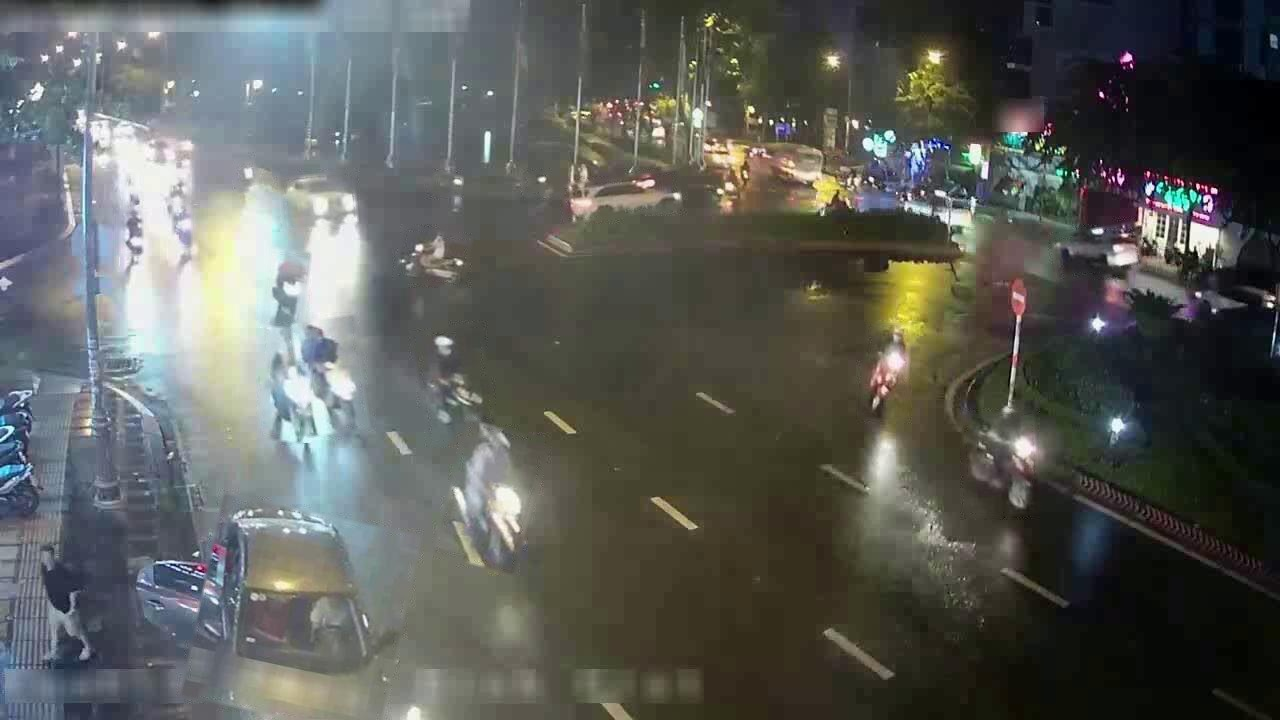Car: (194, 507, 373, 675), (135, 559, 205, 655), (568, 175, 681, 220), (1055, 227, 1139, 273), (284, 175, 357, 222)
Motorcycle: (0, 463, 40, 517)
Motorcyclist: (452, 421, 529, 569), (299, 324, 359, 434), (425, 334, 486, 430), (968, 429, 1038, 510), (267, 332, 318, 439), (399, 234, 468, 287), (868, 329, 908, 415), (271, 254, 308, 326), (170, 205, 196, 261), (124, 211, 146, 267), (431, 174, 463, 195), (522, 175, 550, 197), (234, 163, 255, 189), (124, 174, 139, 207), (166, 180, 187, 201)
Pedestrian: (40, 545, 95, 662)
Sign: (1010, 278, 1026, 317)
